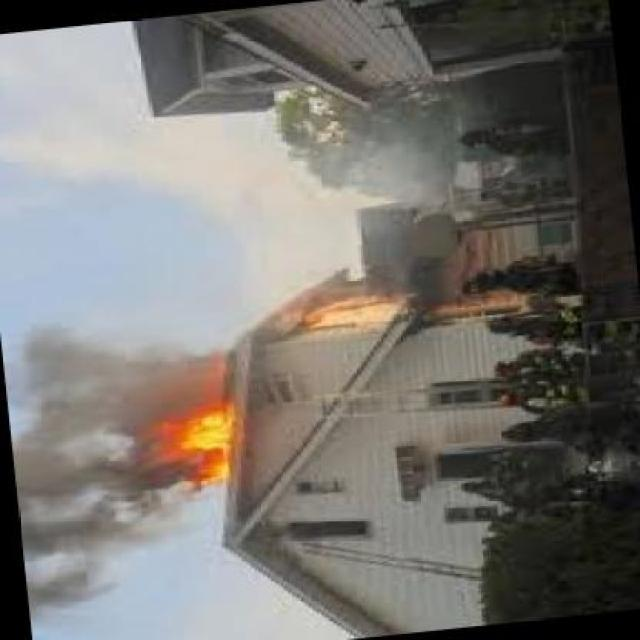Fire: (177, 404, 240, 501)
Smoke: (15, 326, 174, 609), (279, 288, 530, 332)
